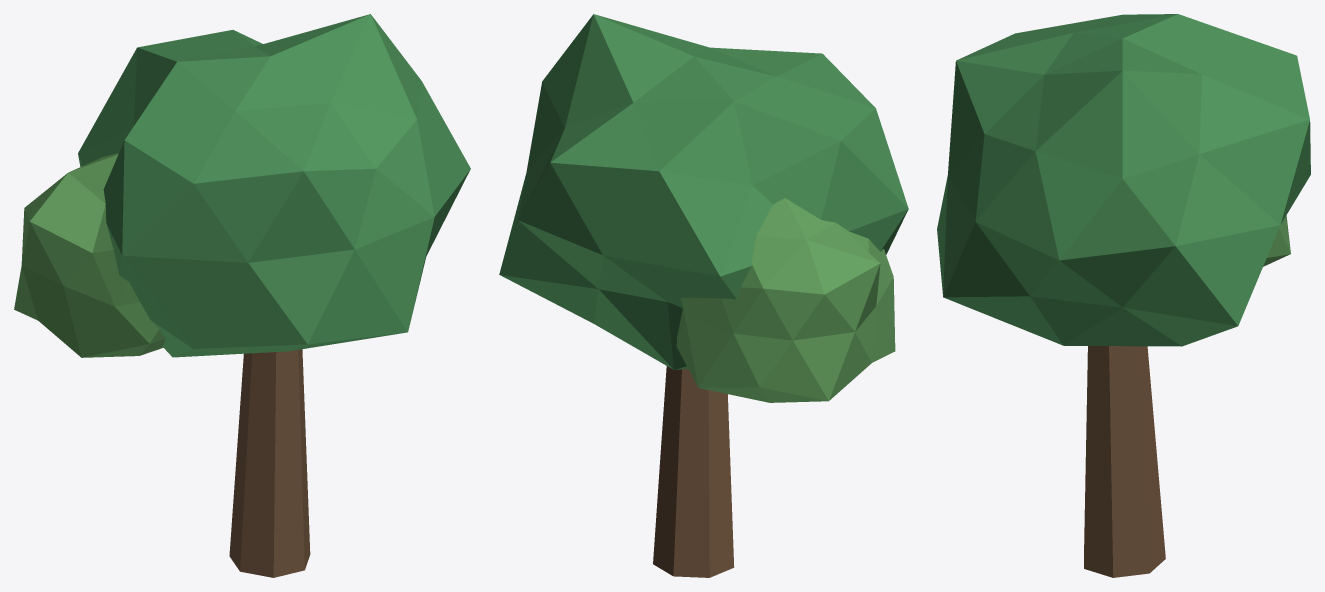
Rendered from tree-lowpoly.glb.
The picture shows the model from 3 angles, left to right: view 1: azimuth 30°, elevation 25°; view 2: azimuth 150°, elevation 25°; view 3: azimuth 270°, elevation 25°; orthographic projection. The views are drawn at different scales.
Visible parts, largest first — view 1: TreeLowPoly; view 2: TreeLowPoly; view 3: TreeLowPoly.
Part boxes in pixels (x1,y1,x2,y2): TreeLowPoly: (14, 14, 470, 577); TreeLowPoly: (499, 14, 908, 577); TreeLowPoly: (937, 14, 1310, 577).
Size of the model in its own units: 0.7973 by 1.04 by 0.6509.
